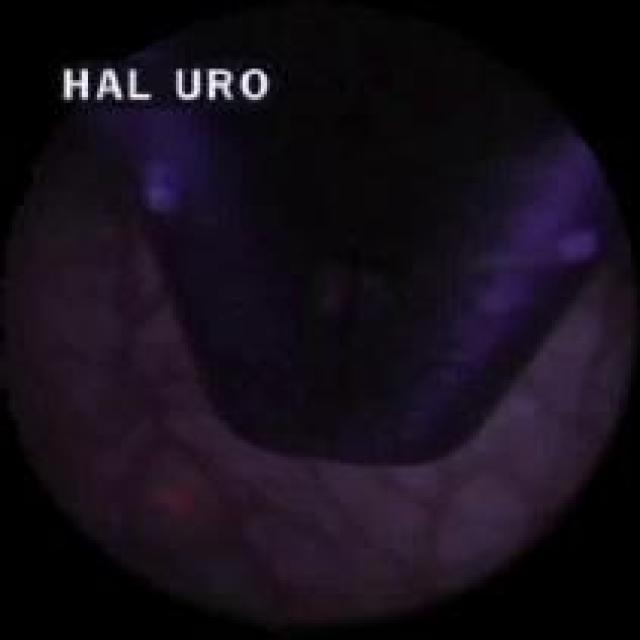color misalignment: (57, 59, 274, 112)
contrast: (27, 33, 613, 605)
instrument: (121, 45, 610, 462)
